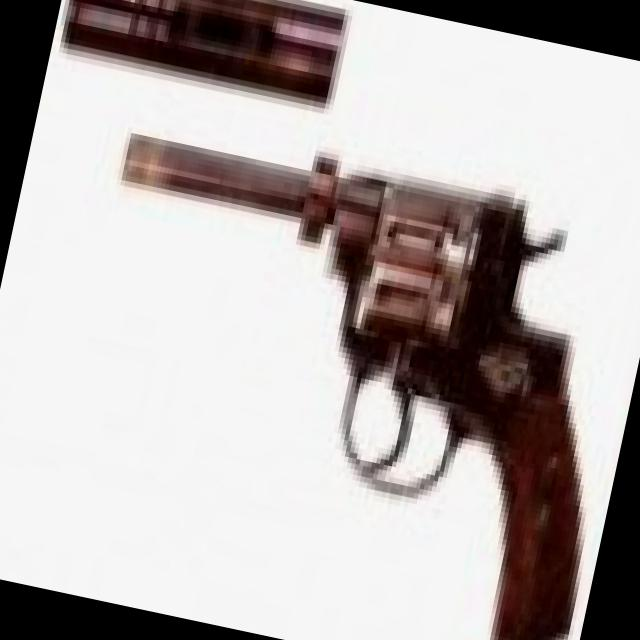handgun: (39, 95, 639, 639)
